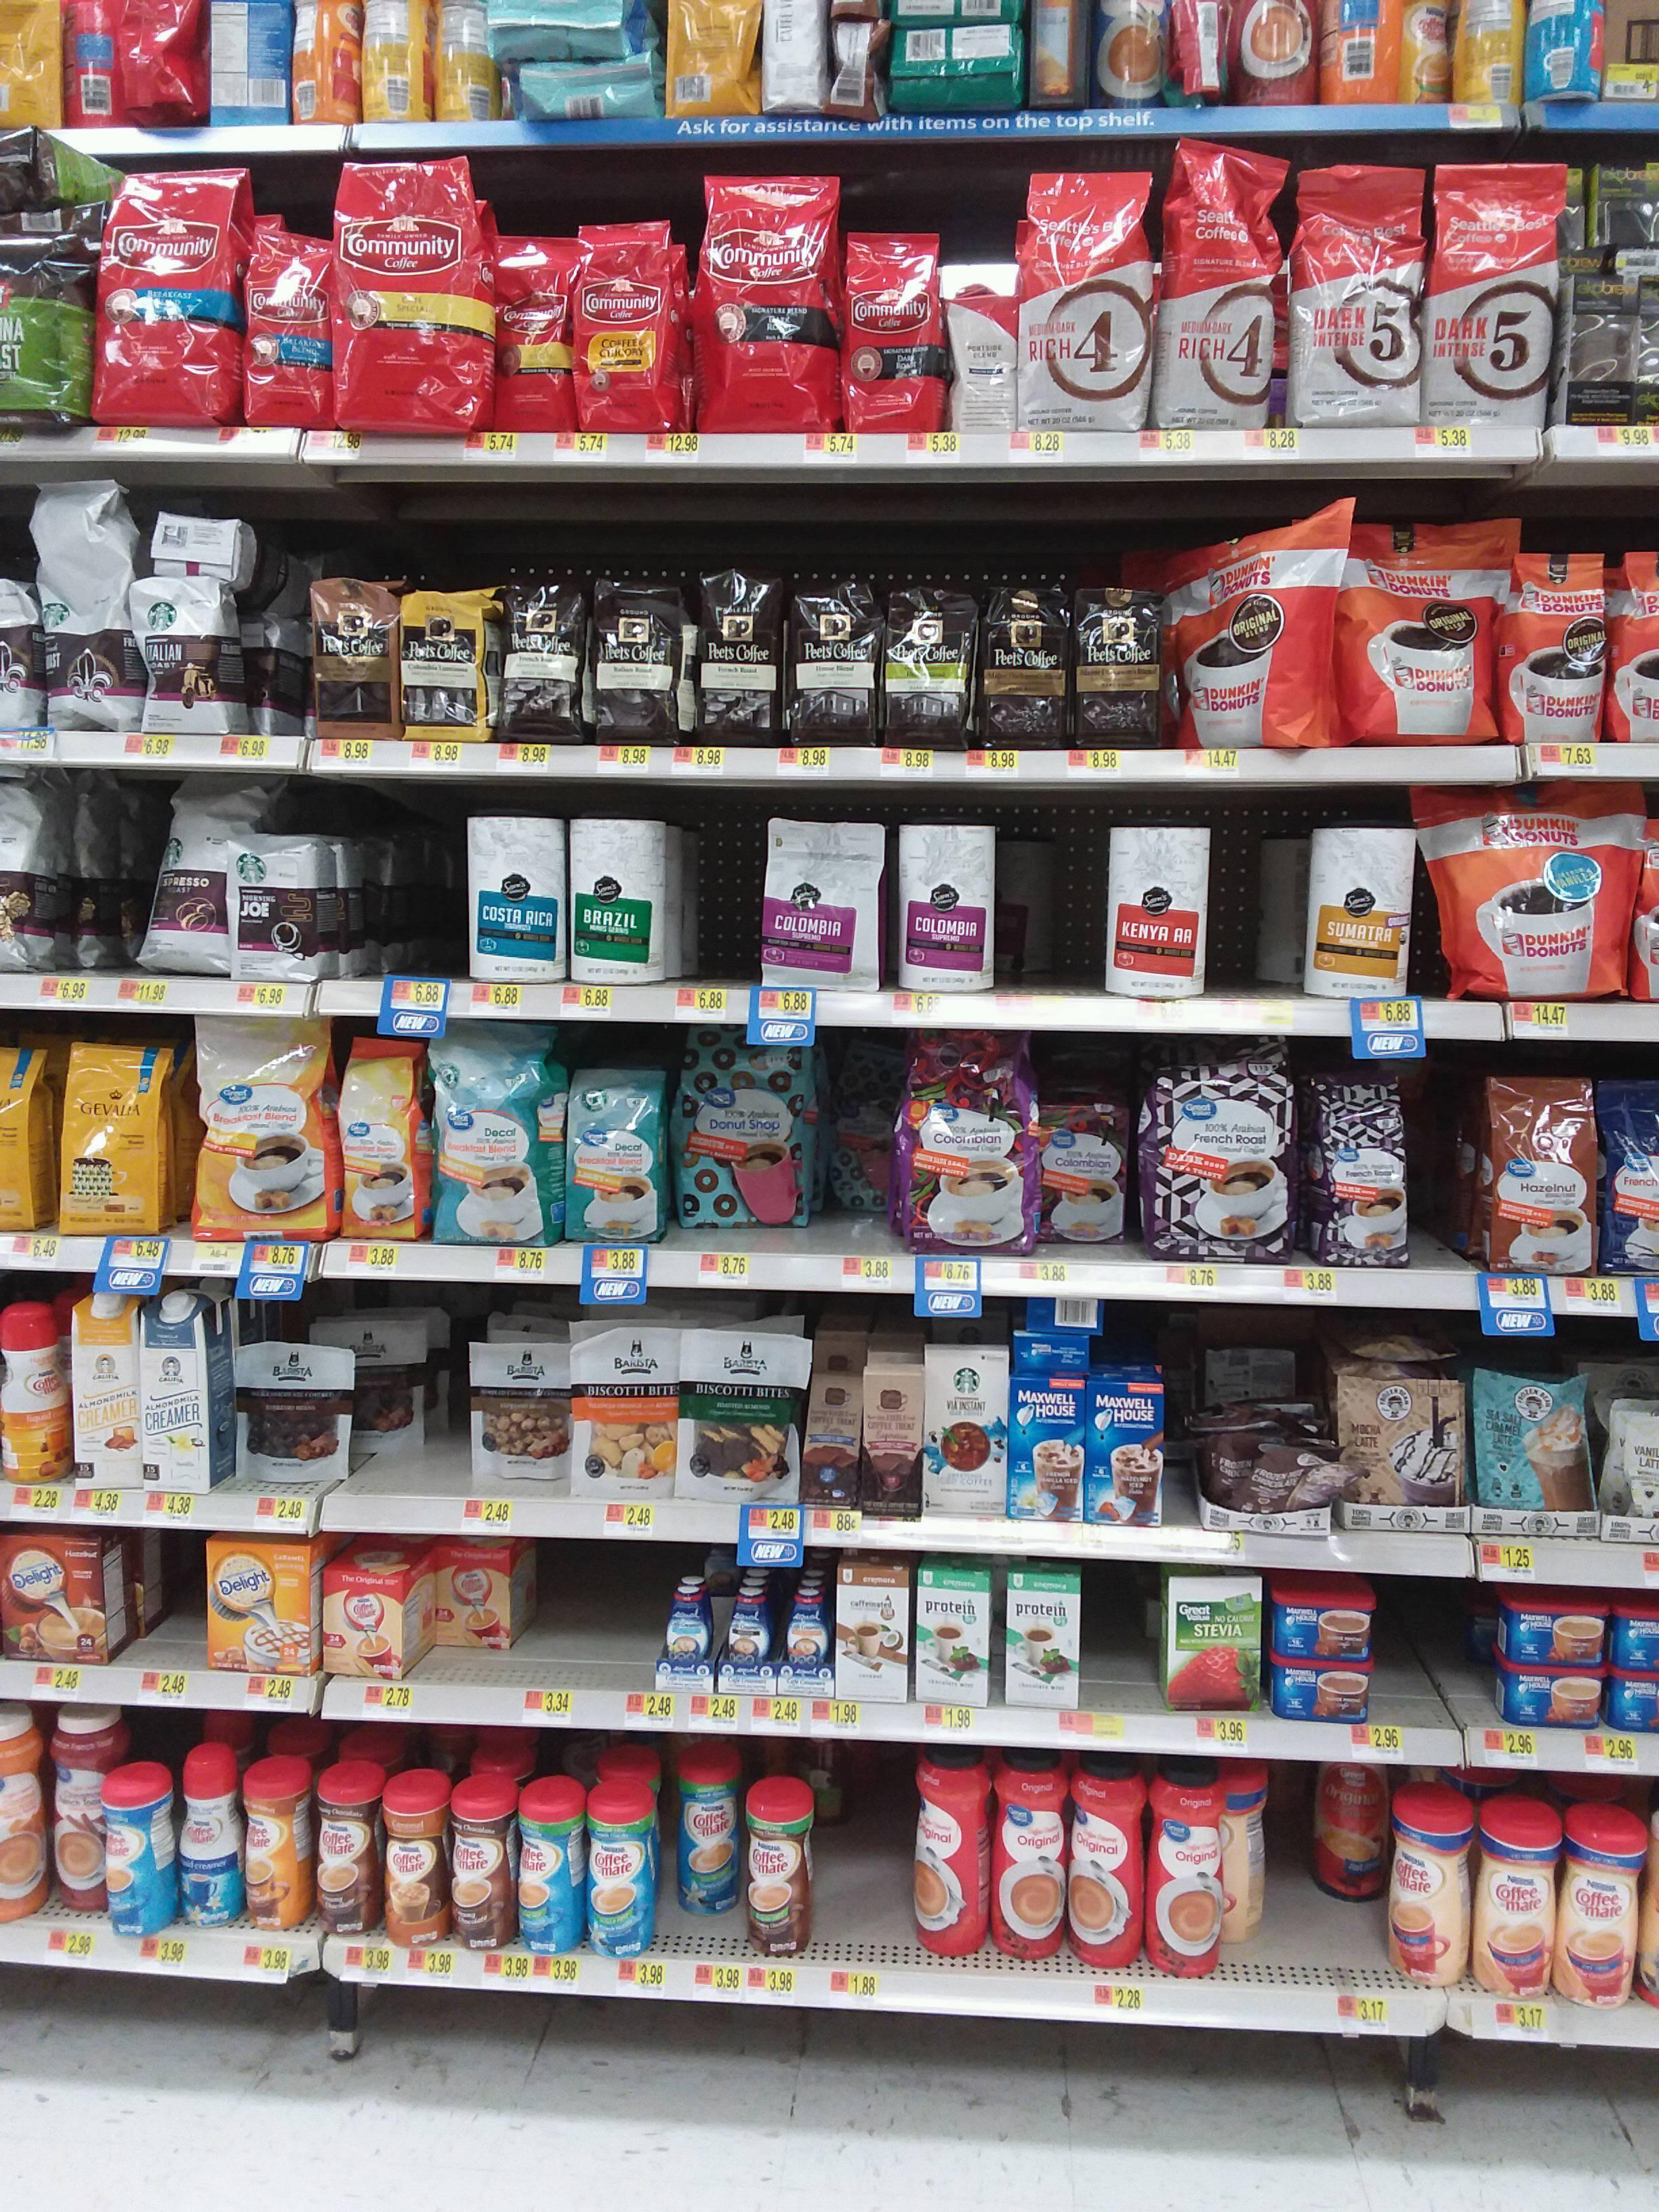empty: (814, 1749, 904, 1949), (1262, 1766, 1340, 1973), (1412, 1076, 1490, 1284), (817, 1047, 896, 1254), (1384, 1585, 1488, 1724), (671, 829, 760, 984), (371, 819, 458, 975), (1209, 843, 1297, 1000), (1006, 834, 1093, 989), (125, 1524, 206, 1663), (518, 1543, 598, 1681), (577, 1545, 657, 1683), (1075, 1576, 1155, 1714)
